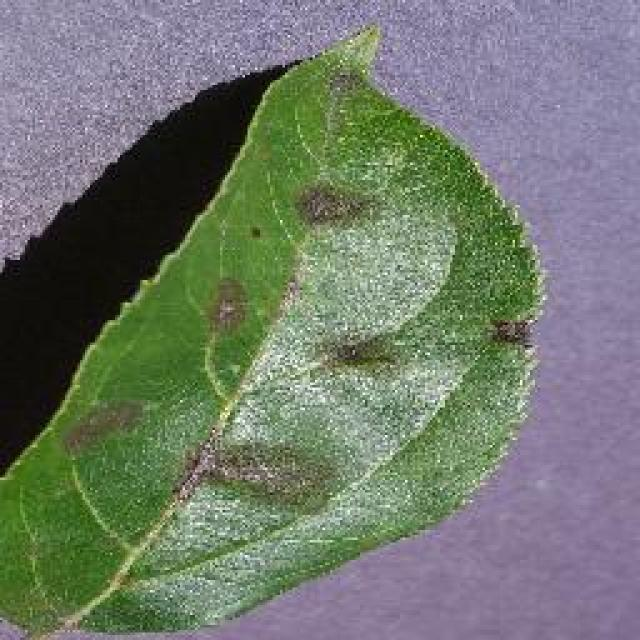apple scab disease: (0, 20, 548, 638)
